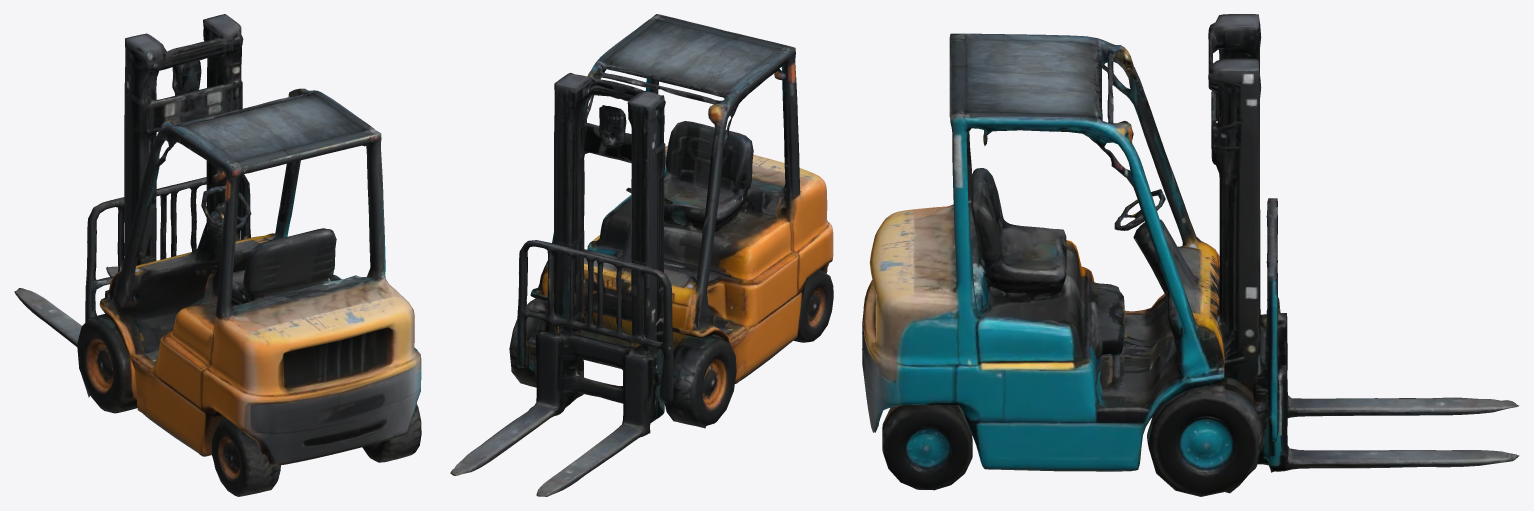
File: forklift.glb
3 renders of one model, left to right at view 1: azimuth 30°, elevation 25°; view 2: azimuth 150°, elevation 25°; view 3: azimuth 270°, elevation 25°, orthographic. The views are drawn at different scales.
Parts seen in each view (by area): view 1: Forklift, forks; view 2: Forklift, forks, lamp_head_L; view 3: Forklift, forks.
Boxes of the visible parts, <box> form: Forklift: <box>77,14,421,496</box>; forks: <box>14,266,118,346</box>; Forklift: <box>509,14,833,434</box>; forks: <box>450,331,648,496</box>; lamp_head_L: <box>708,87,740,129</box>; Forklift: <box>862,14,1283,496</box>; forks: <box>1278,313,1519,471</box>.
Bounding box in the file's own units: 1.27 × 2.1 × 3.12.
1 material, 1 textured.
